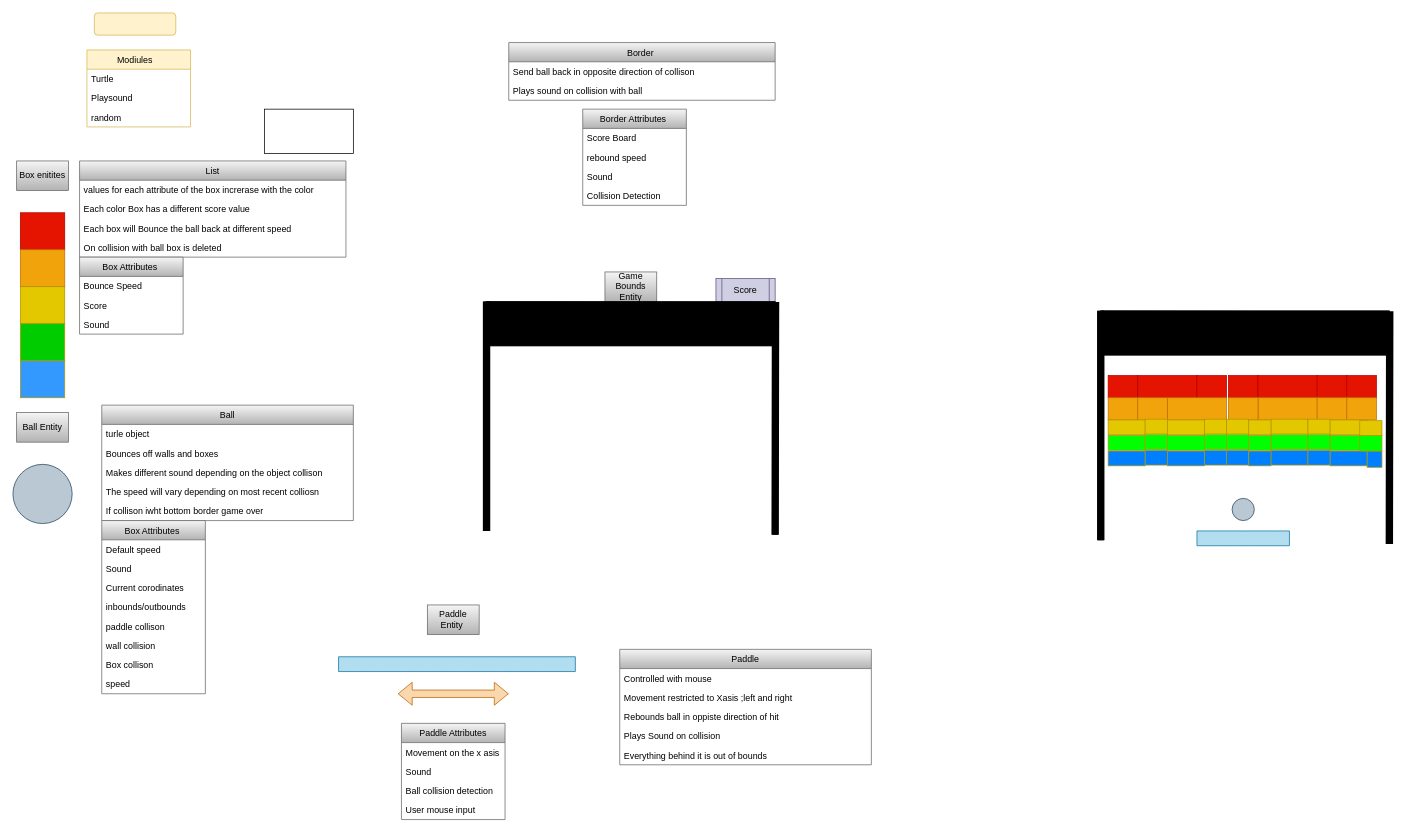
Image size: 1407x835. Some labels were removed from this diagram. Here are the shapes that lost their labels. From the top down, the centre of each, then its label:
[135,23]: Python
[308,131]: Break out game
